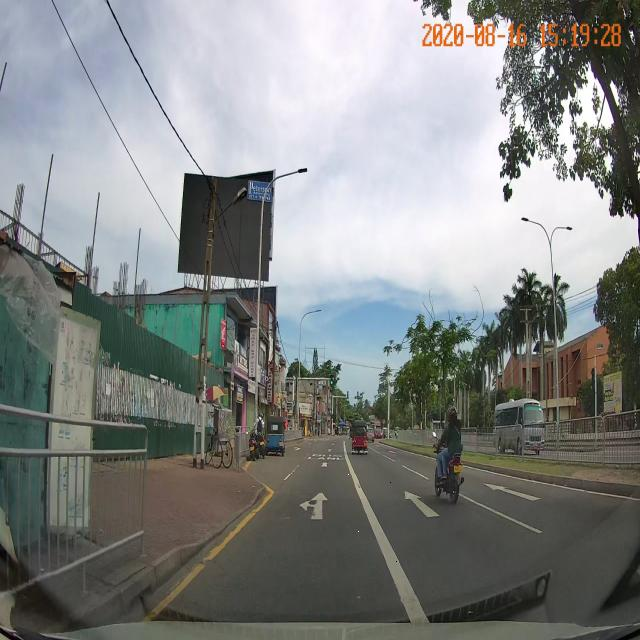forward_lft: (226, 475, 401, 562)
